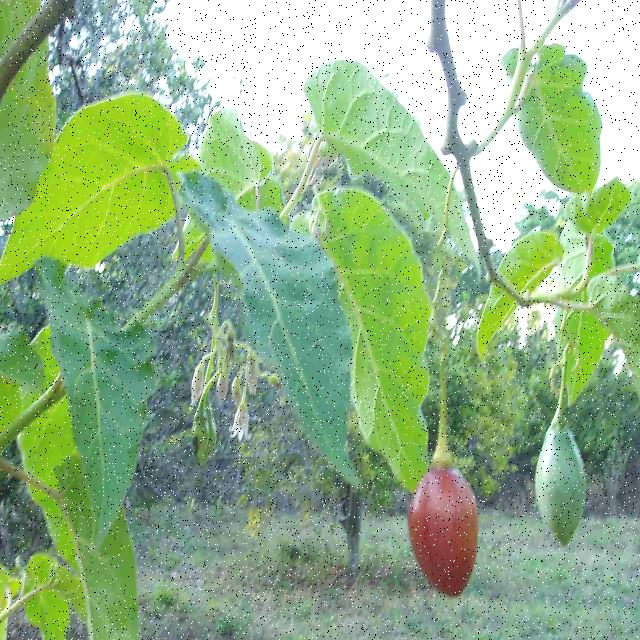Tree Tomato: (407, 433, 501, 615)
